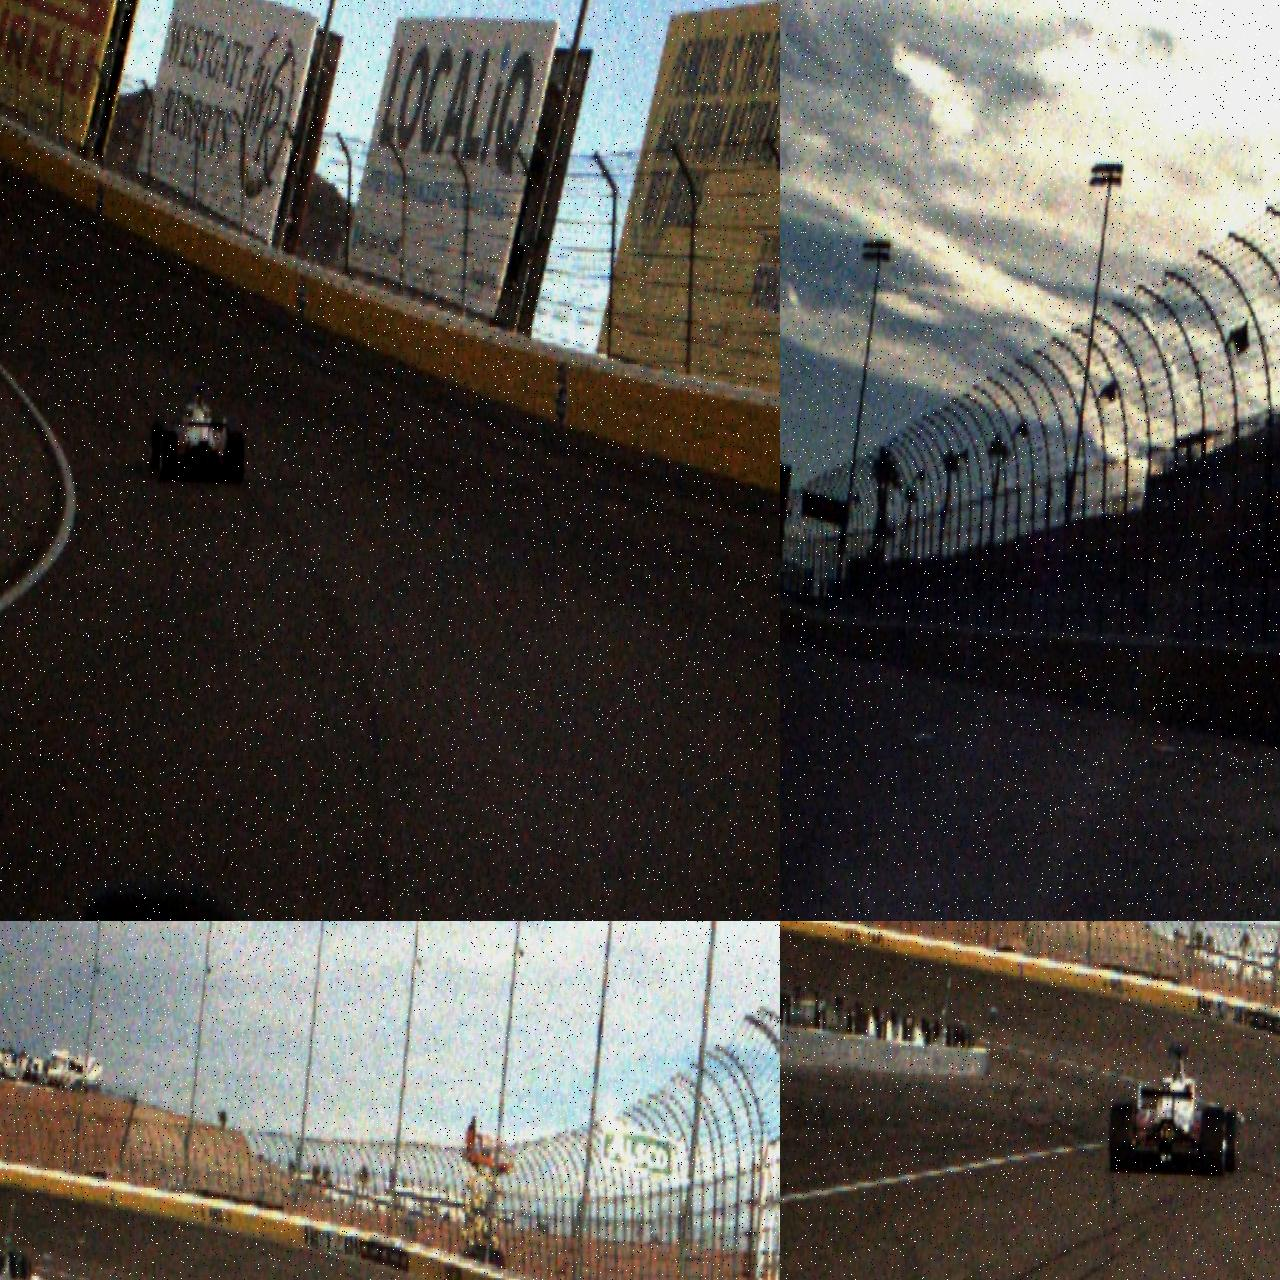AV: (1108, 1043, 1239, 1178), (147, 382, 247, 485)
Wheel: (1198, 1107, 1226, 1177), (1109, 1103, 1136, 1173), (225, 429, 245, 485), (1220, 1111, 1238, 1172), (158, 430, 178, 483), (148, 420, 164, 472)
